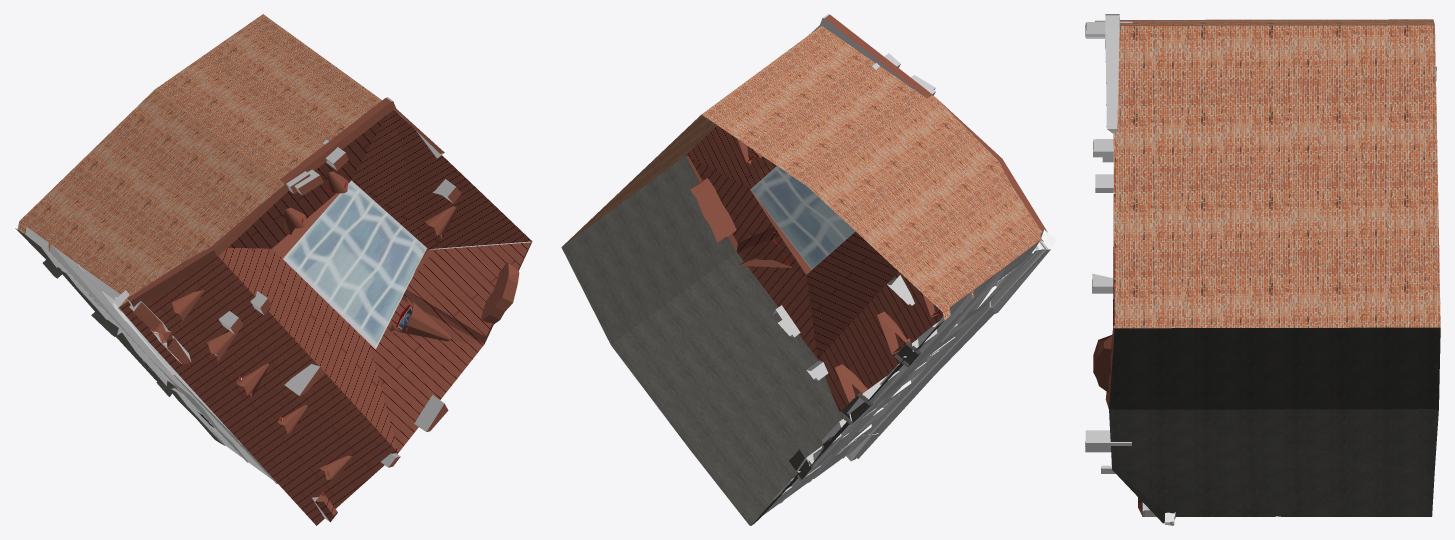
The model's file is Nunne_8-origo.obj.
The picture shows the model from 3 angles, left to right: view 1: azimuth 30°, elevation 25°; view 2: azimuth 150°, elevation 25°; view 3: azimuth 270°, elevation 25°; orthographic projection. The views are drawn at different scales.
Parts seen in each view (by area): view 1: Nunne_8; view 2: Nunne_8; view 3: Nunne_8.
Boxes of the visible parts, x1,y1,x2,y2 form: Nunne_8: [15, 14, 532, 525]; Nunne_8: [561, 14, 1056, 525]; Nunne_8: [1085, 14, 1440, 525].
Size of the model in its own units: 25.94 by 26.5 by 15.76.
